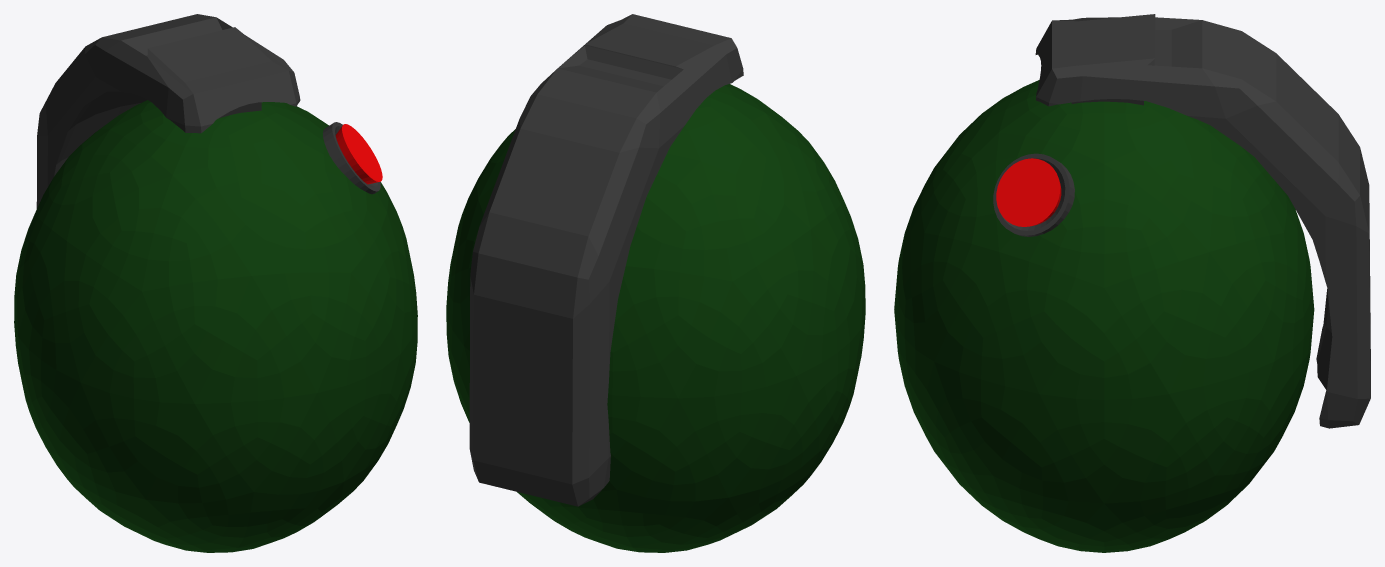
The model's file is Grenade_Frag.glb.
3 views of the same model, side by side, from view 1: azimuth 30°, elevation 25°; view 2: azimuth 150°, elevation 25°; view 3: azimuth 270°, elevation 25° (orthographic). The views are drawn at different scales.
Parts seen in each view (by area): view 1: Icosphere.tres, handle.tres, button.tres, button case.tres; view 2: Icosphere.tres, handle.tres; view 3: Icosphere.tres, handle.tres, button.tres, button case.tres.
Boxes of the visible parts, x1,y1,x2,y2 form: Icosphere.tres: (14, 100, 417, 552); handle.tres: (36, 14, 300, 208); button.tres: (335, 124, 382, 184); button case.tres: (323, 122, 380, 194); Icosphere.tres: (446, 84, 865, 552); handle.tres: (469, 14, 743, 506); Icosphere.tres: (894, 80, 1314, 552); handle.tres: (1035, 14, 1370, 428); button.tres: (996, 158, 1061, 226); button case.tres: (993, 153, 1074, 236).
Bounding box in the file's own units: 2.17 × 2.85 × 2.46.
